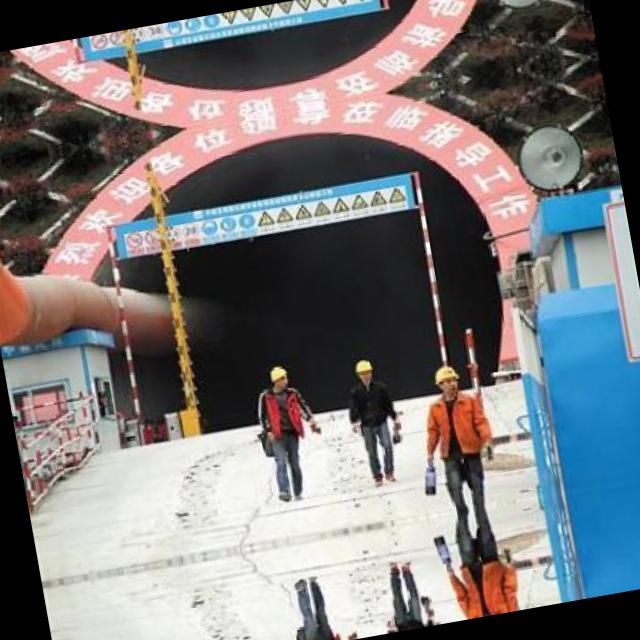helmet: (428, 359, 461, 399), (348, 354, 382, 386), (262, 361, 291, 392)
